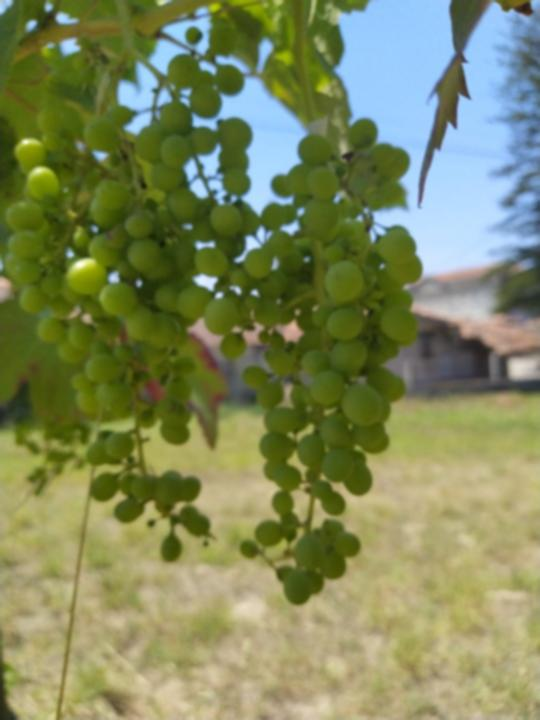grape: (6, 28, 254, 564), (221, 117, 425, 611)
